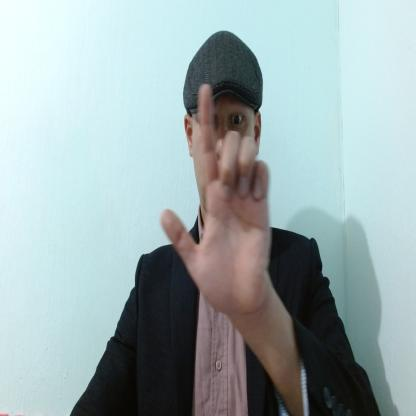L: (160, 83, 268, 314)
